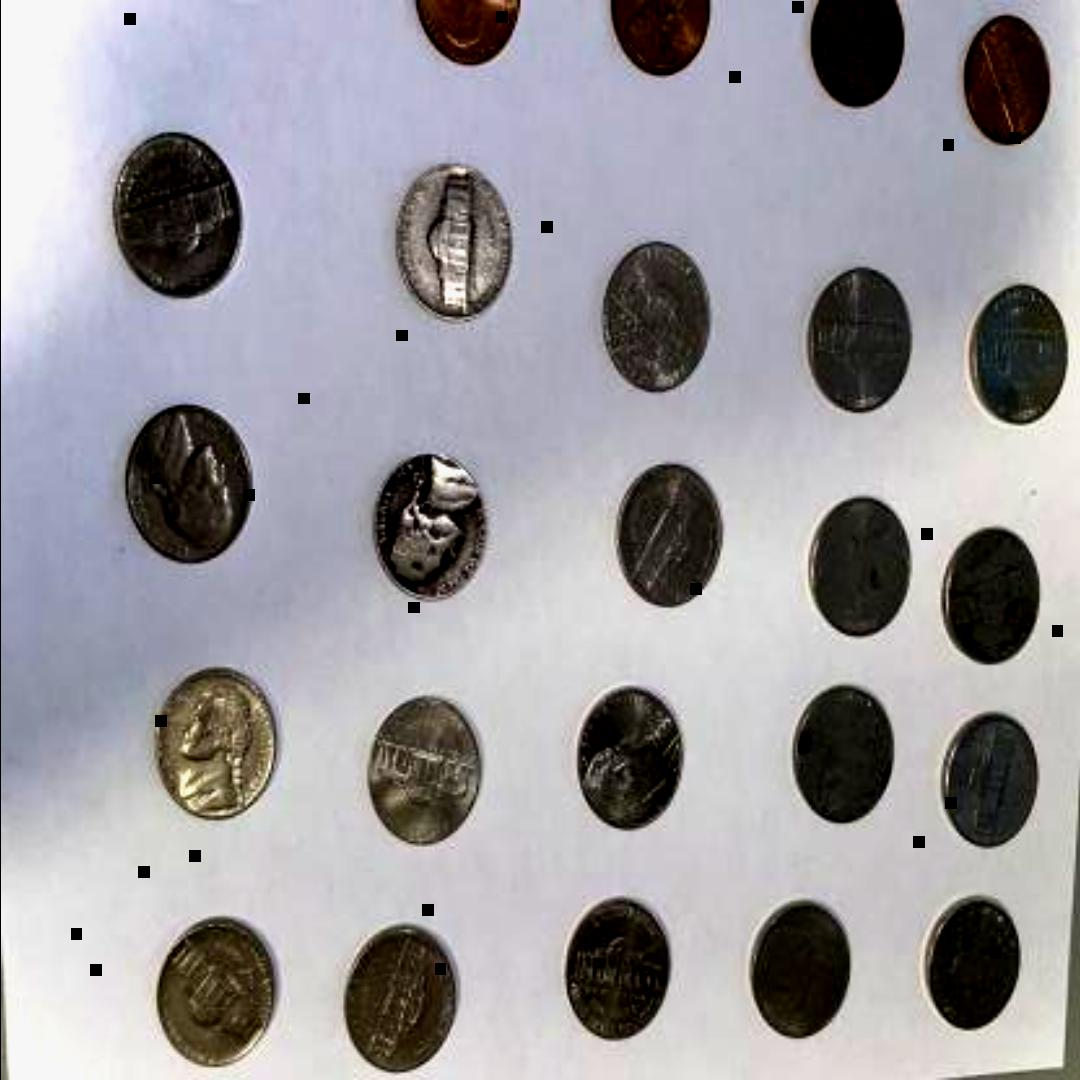Nickel: (110, 126, 248, 302), (126, 404, 256, 566), (149, 665, 281, 823), (150, 917, 278, 1067), (339, 918, 463, 1070), (398, 161, 516, 319), (365, 695, 487, 845), (367, 456, 489, 604), (802, 270, 916, 424), (572, 687, 688, 837), (964, 282, 1074, 437), (786, 684, 898, 834), (743, 895, 857, 1040), (807, 495, 916, 645), (564, 896, 672, 1046), (913, 893, 1027, 1035), (602, 241, 710, 390), (616, 463, 724, 609), (938, 706, 1040, 852), (939, 528, 1040, 672)
Penny: (954, 12, 1056, 152), (808, 0, 906, 106), (604, 1, 718, 84), (412, 0, 526, 70)
